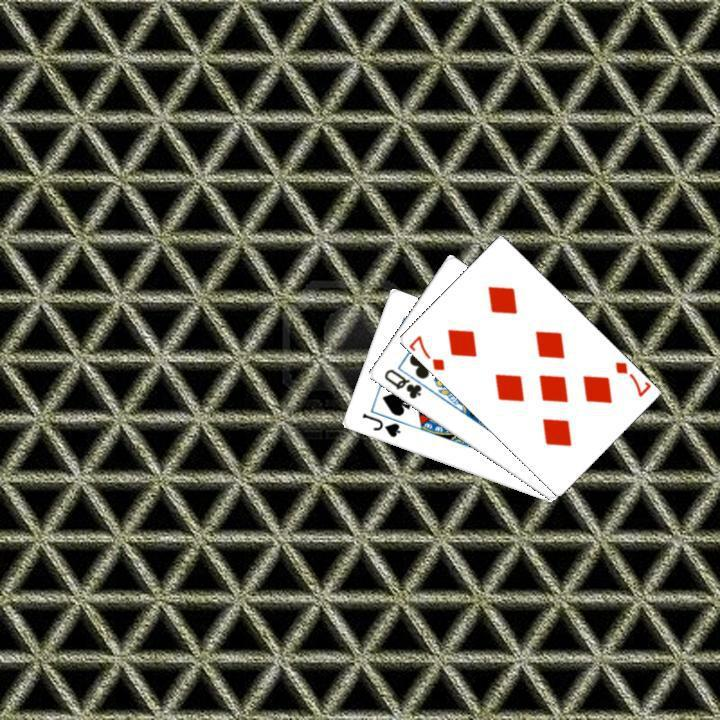7: (405, 331, 446, 373), (610, 357, 651, 399)
J: (357, 409, 402, 439)
Q: (379, 364, 424, 401)
